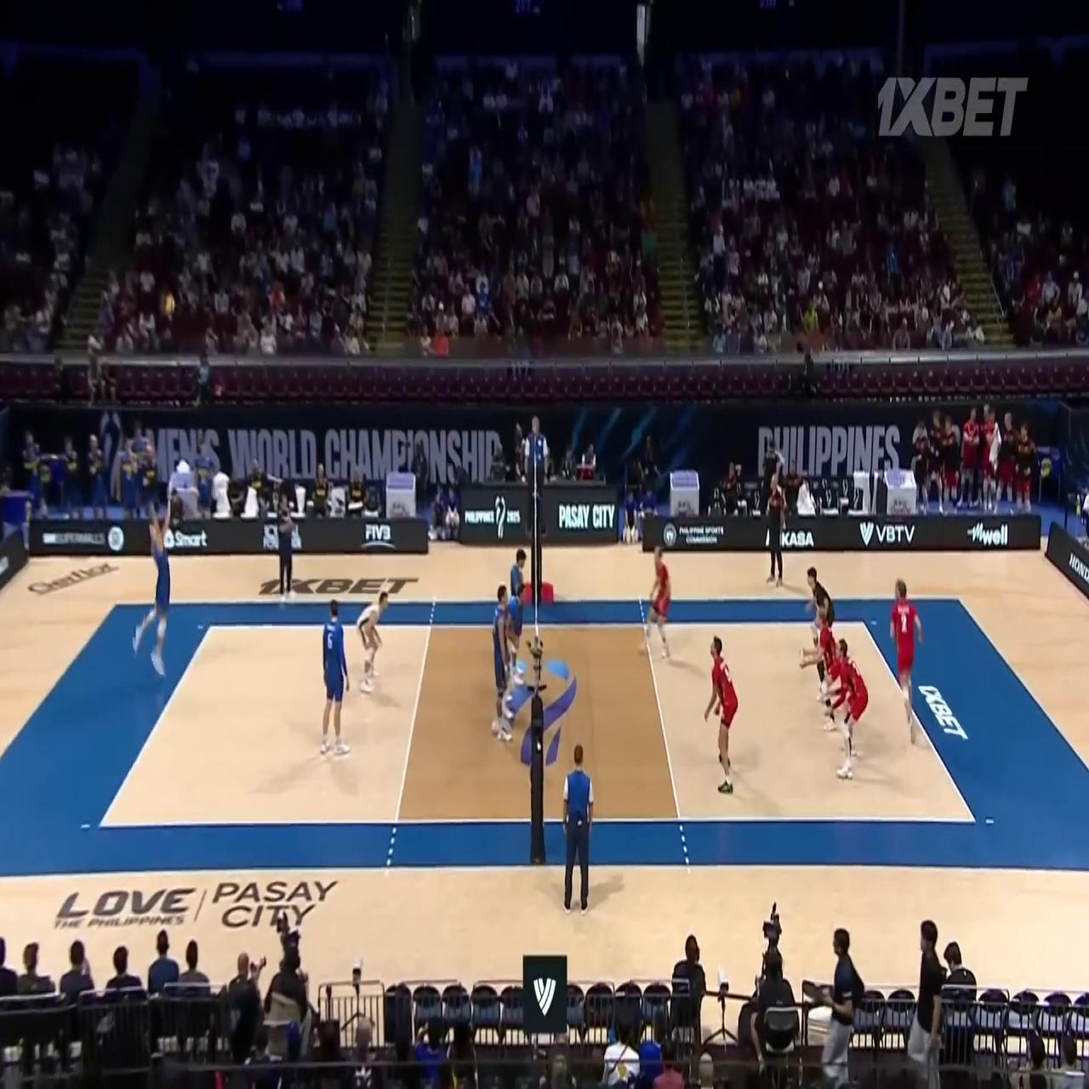ball: (164, 295, 175, 314)
